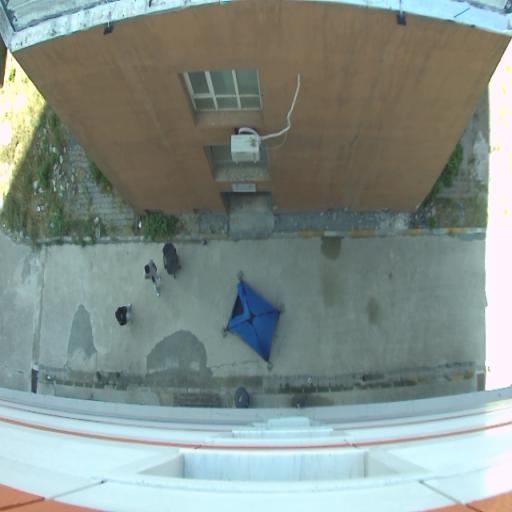tent: (220, 271, 287, 367)
